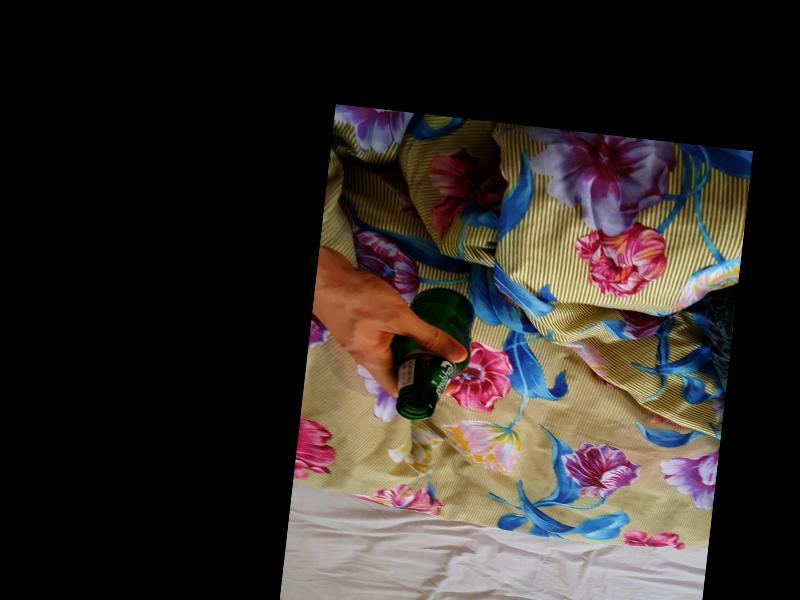Beer: (382, 282, 475, 423)
